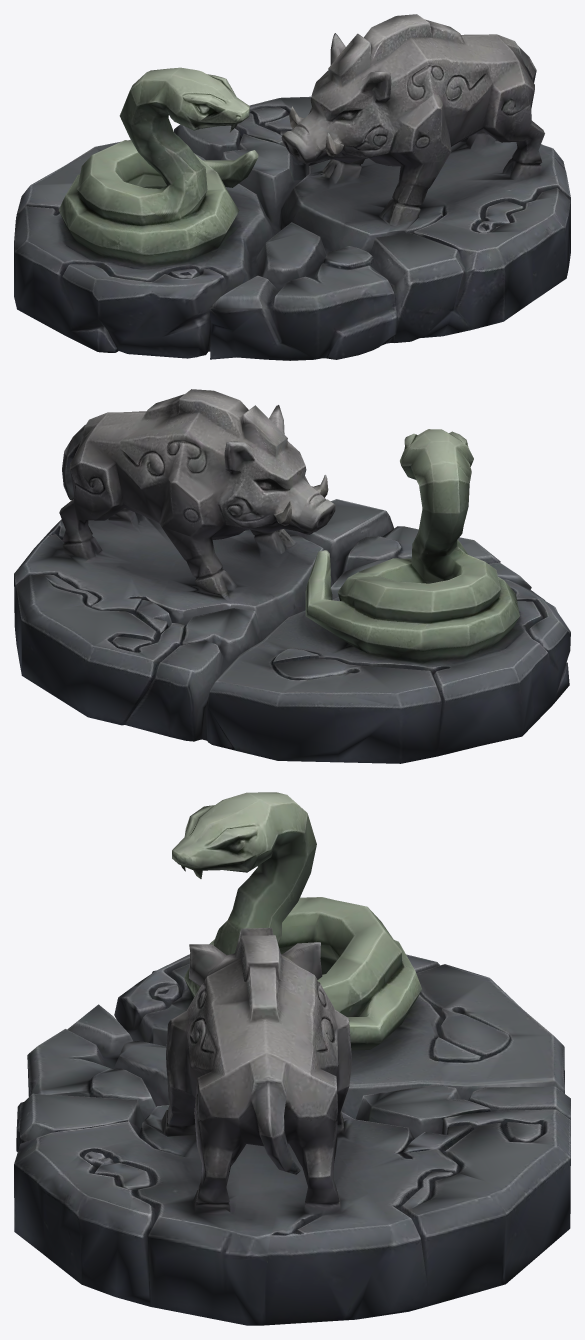
The model's file is chong_si_hai.glb.
3 renders of one model, top to bottom at view 1: azimuth 30°, elevation 25°; view 2: azimuth 150°, elevation 25°; view 3: azimuth 270°, elevation 25°, orthographic. The views are drawn at different scales.
Parts seen in each view (by area): view 1: tripo_node_4bebdd33-c9ed-40e2-b6c4-aba99f20680e; view 2: tripo_node_4bebdd33-c9ed-40e2-b6c4-aba99f20680e; view 3: tripo_node_4bebdd33-c9ed-40e2-b6c4-aba99f20680e.
Boxes of the visible parts, <box> form: tripo_node_4bebdd33-c9ed-40e2-b6c4-aba99f20680e: <box>14,14,570,360</box>; tripo_node_4bebdd33-c9ed-40e2-b6c4-aba99f20680e: <box>14,389,570,763</box>; tripo_node_4bebdd33-c9ed-40e2-b6c4-aba99f20680e: <box>14,792,570,1325</box>.
Size of the model in its own units: 0.9993 by 0.4525 by 0.765.
Materials: 1 (1 with a texture image).
